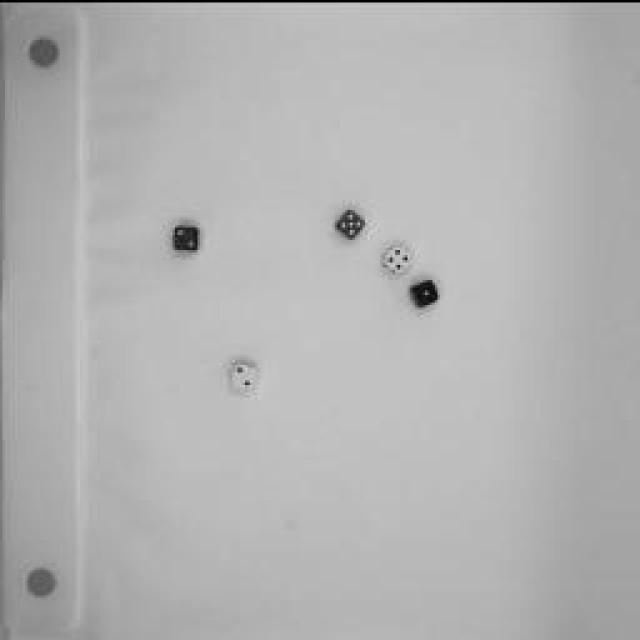dice_1: (410, 274, 445, 308)
dice_2: (165, 215, 210, 260), (225, 355, 265, 395)
dice_4: (380, 236, 415, 276)
dice_5: (332, 203, 372, 245)
